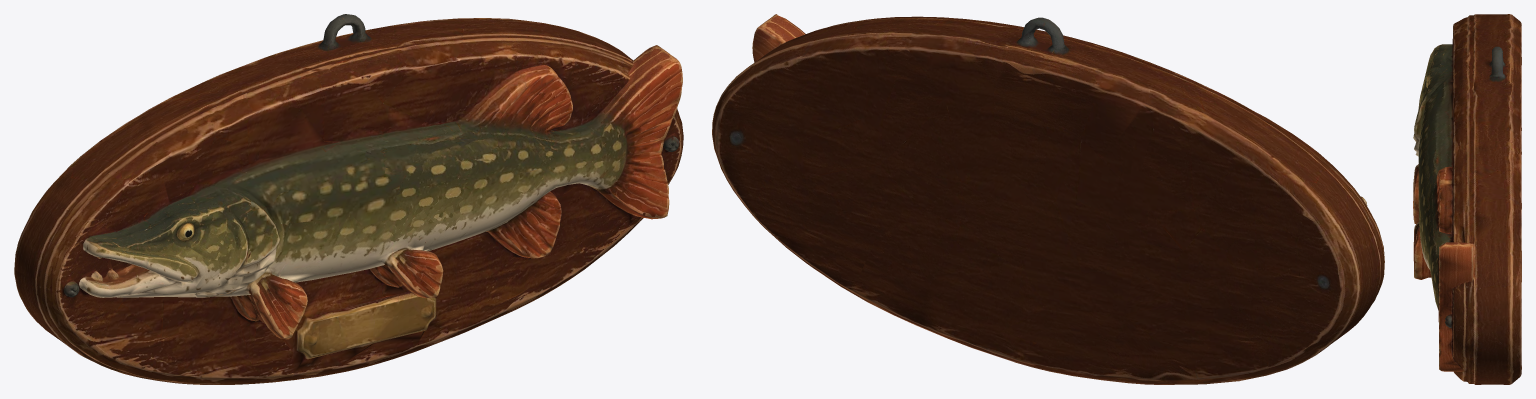
File: d_fish.glb
The picture shows the model from 3 angles, left to right: view 1: azimuth 30°, elevation 25°; view 2: azimuth 150°, elevation 25°; view 3: azimuth 270°, elevation 25°; orthographic projection. The views are drawn at different scales.
Bounding box in the file's own units: 1.9 × 0.9627 × 0.3339.
1 material, 1 textured.
